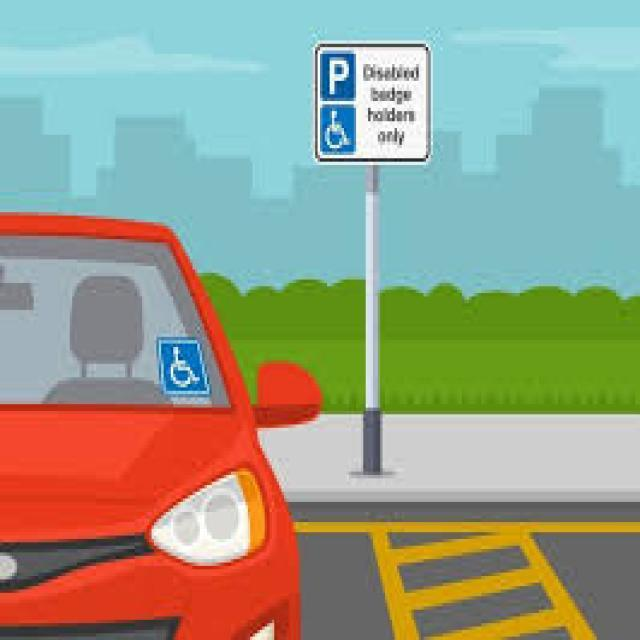symbol_of_access: (166, 346, 201, 386), (321, 106, 352, 150)
